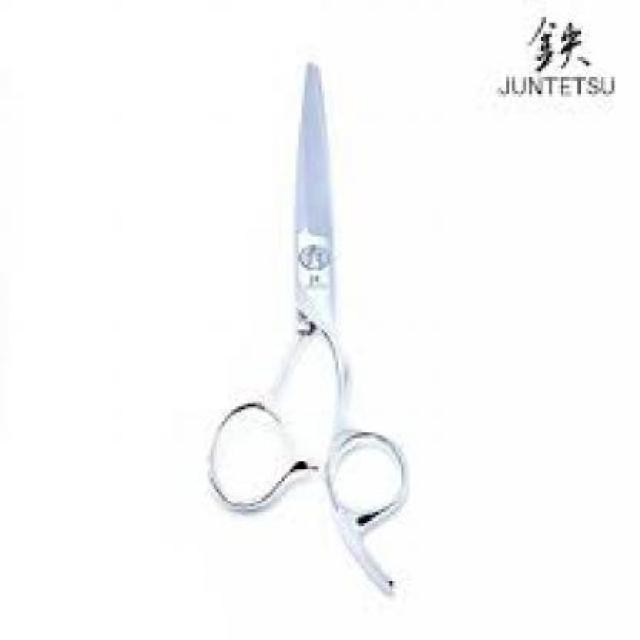scissors: (208, 63, 409, 600)
